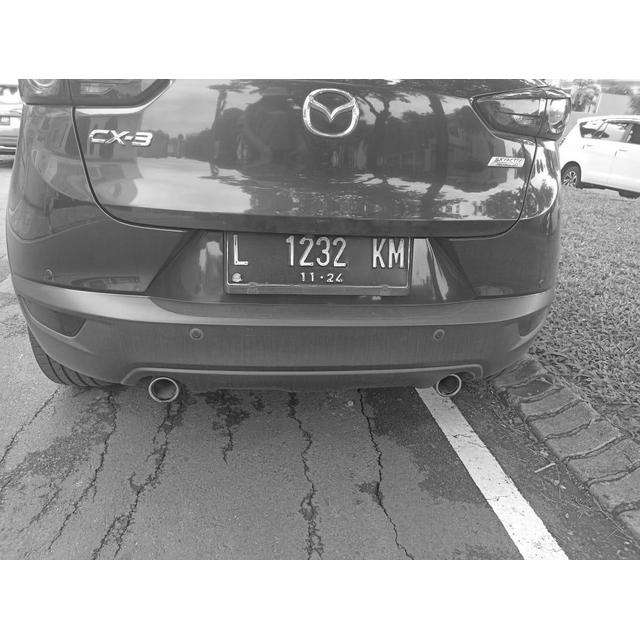license: (229, 231, 409, 283)
